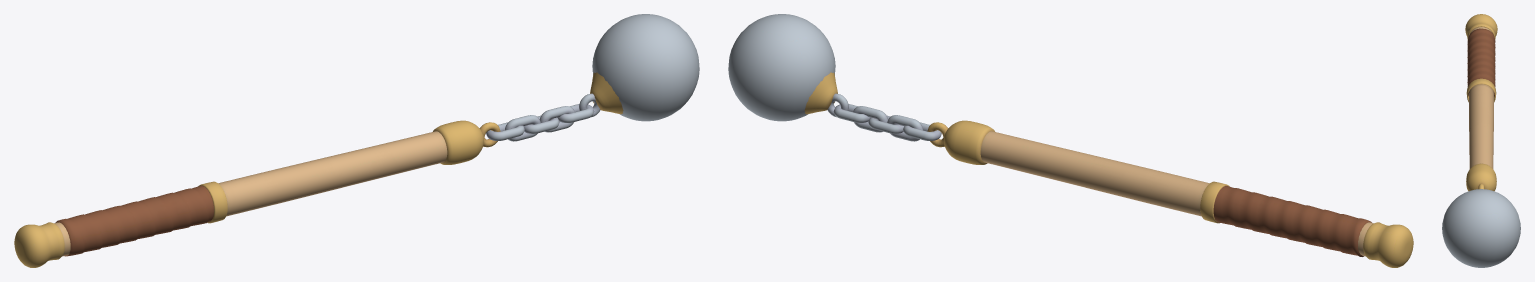
Rendered from flail.glb.
3 renders of one model, left to right at view 1: azimuth 30°, elevation 25°; view 2: azimuth 150°, elevation 25°; view 3: azimuth 270°, elevation 25°, orthographic. The views are drawn at different scales.
Parts seen in each view (by area): view 1: flail_body; view 2: flail_body; view 3: flail_body.
Part boxes in pixels (x1=…): flail_body: x1=14, y1=14, x2=699, y2=267; flail_body: x1=728, y1=14, x2=1413, y2=267; flail_body: x1=1442, y1=14, x2=1520, y2=267.
Bounding box in the file's own units: 0.7942 × 0.11 × 0.11.
Materials: 1 (1 with a texture image).
